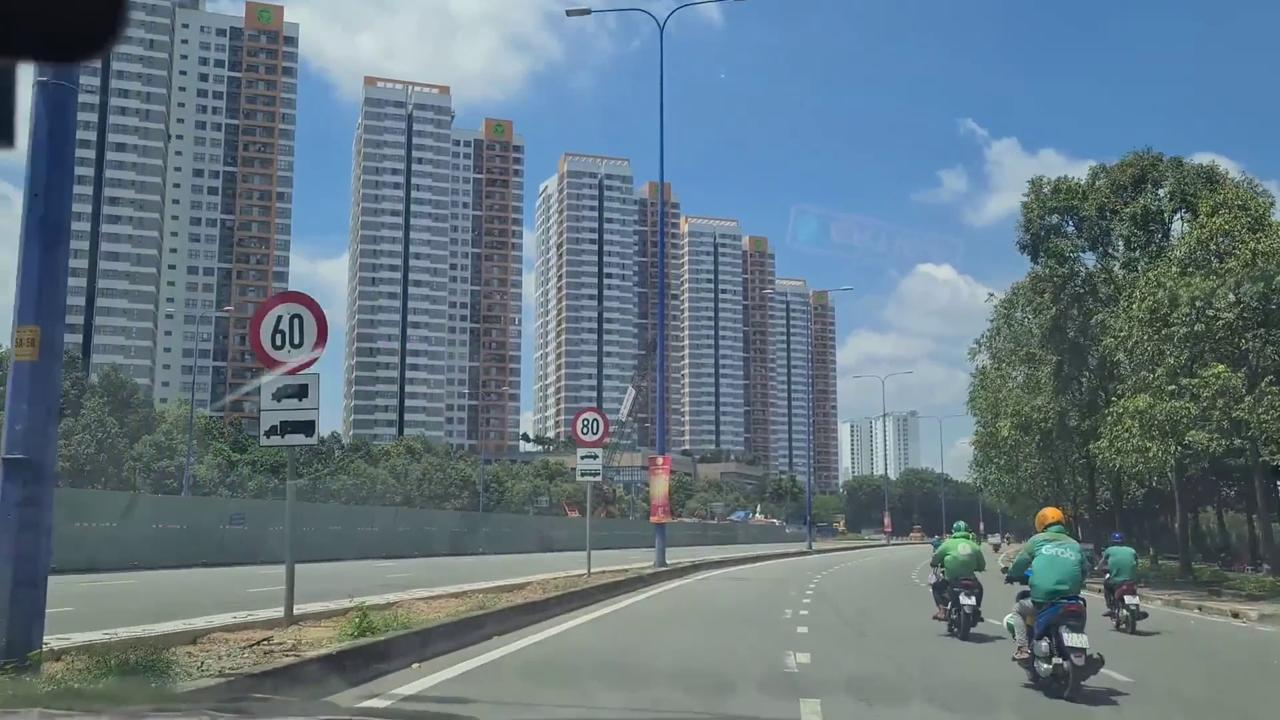Biển phụ: (257, 372, 322, 448), (576, 447, 604, 481)
GIơi hạn tốc độ 60Km/h: (247, 288, 330, 375)
Giới hạn tốc độ 80Km/h: (571, 405, 612, 448)
